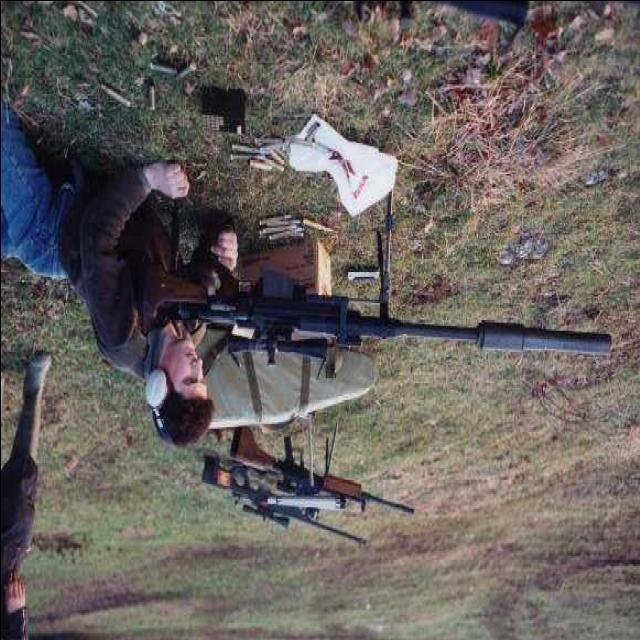heavyweapon: (135, 177, 625, 403)
